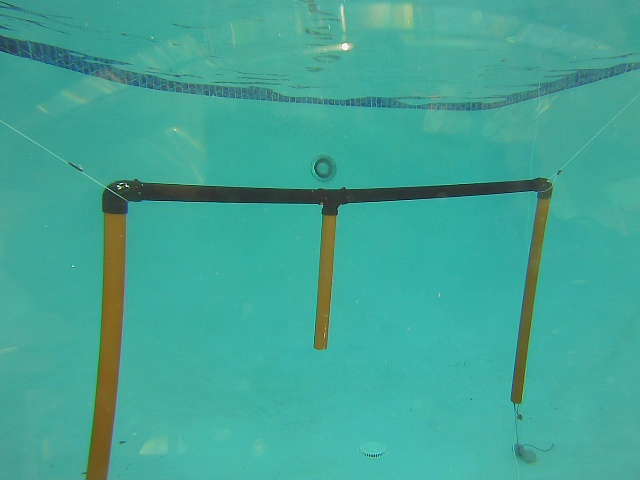Gate: (82, 206, 131, 480), (507, 193, 552, 408), (312, 207, 339, 352)
